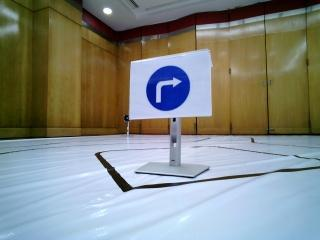right: (129, 60, 212, 113)
